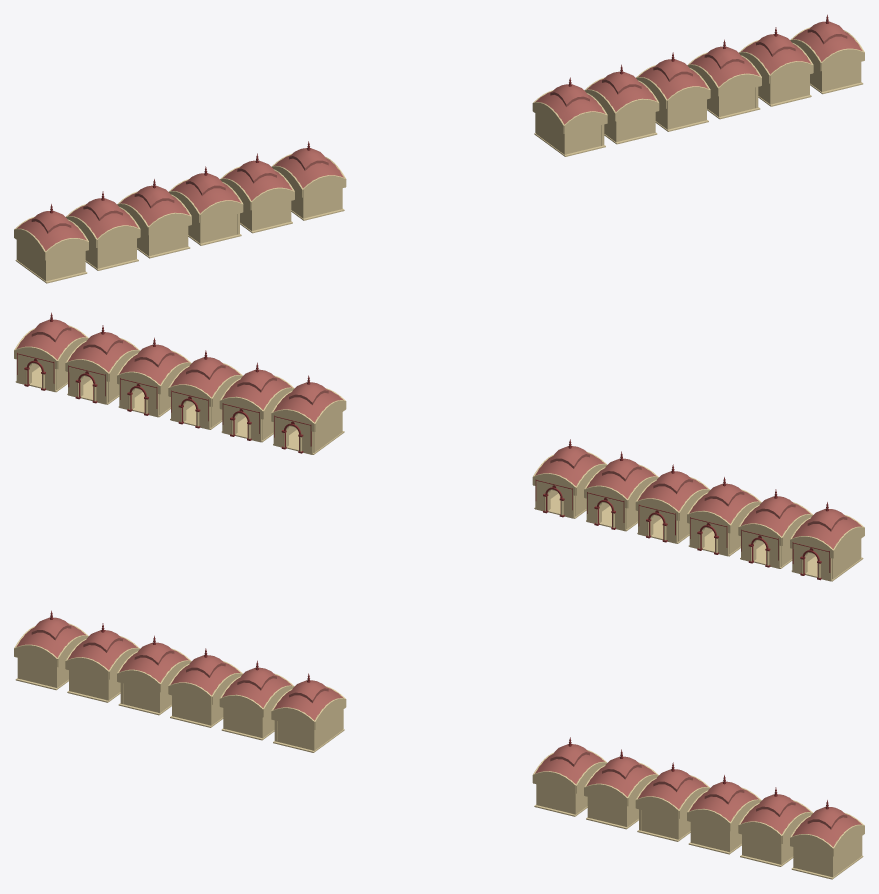
File: KOL_T1_DAKSHINESHWAR__10_Shiva_Temples.fbx
3 renders of one model, top to bottom at view 1: azimuth 30°, elevation 25°; view 2: azimuth 150°, elevation 25°; view 3: azimuth 330°, elevation 25°, orthographic.
Parts seen in each view (by area): view 1: Shiva_temple_shared_master__KOL_T1_TempleCream.007, Shiva_temple_shared_master__KOL_T1_TempleCream.006, Shiva_temple_shared_master__KOL_T1_TempleCream.008, Shiva_temple_shared_master__KOL_T1_TempleCream.002, Shiva_temple_shared_master__KOL_T1_TempleCream.024, Shiva_temple_shared_master__KOL_T1_TempleCream.010, Shiva_temple_shared_master__KOL_T1_TempleCream.001, Shiva_temple_shared_master__KOL_T1_TempleCream.004, Shiva_temple_shared_master__KOL_T1_TempleCream.009, Shiva_temple_shared_master__KOL_T1_TempleCream.005, Shiva_temple_shared_master__KOL_T1_TempleCream.011, Shiva_temple_shared_master__KOL_T1_TempleCream.003 (+12 smaller); view 2: Shiva_temple_shared_master__KOL_T1_TempleCream.006, Shiva_temple_shared_master__KOL_T1_TempleCream.007, Shiva_temple_shared_master__KOL_T1_TempleCream.008, Shiva_temple_shared_master__KOL_T1_TempleCream.010, Shiva_temple_shared_master__KOL_T1_TempleCream.024, Shiva_temple_shared_master__KOL_T1_TempleCream.004, Shiva_temple_shared_master__KOL_T1_TempleCream.002, Shiva_temple_shared_master__KOL_T1_TempleCream.001, Shiva_temple_shared_master__KOL_T1_TempleCream.009, Shiva_temple_shared_master__KOL_T1_TempleCream.011, Shiva_temple_shared_master__KOL_T1_TempleCream.005, Shiva_temple_shared_master__KOL_T1_TempleCream.003 (+12 smaller); view 3: Shiva_temple_shared_master__KOL_T1_TempleCream.001, Shiva_temple_shared_master__KOL_T1_TempleCream.024, Shiva_temple_shared_master__KOL_T1_TempleCream.002, Shiva_temple_shared_master__KOL_T1_TempleCream.006, Shiva_temple_shared_master__KOL_T1_TempleCream.008, Shiva_temple_shared_master__KOL_T1_TempleCream.004, Shiva_temple_shared_master__KOL_T1_TempleCream.007, Shiva_temple_shared_master__KOL_T1_TempleCream.010, Shiva_temple_shared_master__KOL_T1_TempleCream.003, Shiva_temple_shared_master__KOL_T1_TempleCream.005, Shiva_temple_shared_master__KOL_T1_TempleCream.011, Shiva_temple_shared_master__KOL_T1_TempleCream.009 (+12 smaller).
Boxes of the visible parts, x1,y1,x2,y2 form: Shiva_temple_shared_master__KOL_T1_TempleCream.007: (532, 90, 607, 156); Shiva_temple_shared_master__KOL_T1_TempleCream.006: (14, 216, 88, 283); Shiva_temple_shared_master__KOL_T1_TempleCream.008: (584, 77, 659, 144); Shiva_temple_shared_master__KOL_T1_TempleCream.002: (220, 166, 294, 233); Shiva_temple_shared_master__KOL_T1_TempleCream.024: (790, 27, 864, 94); Shiva_temple_shared_master__KOL_T1_TempleCream.010: (687, 52, 761, 119); Shiva_temple_shared_master__KOL_T1_TempleCream.001: (271, 154, 346, 220); Shiva_temple_shared_master__KOL_T1_TempleCream.004: (117, 191, 191, 258); Shiva_temple_shared_master__KOL_T1_TempleCream.009: (636, 65, 710, 131); Shiva_temple_shared_master__KOL_T1_TempleCream.005: (66, 204, 140, 270); Shiva_temple_shared_master__KOL_T1_TempleCream.011: (738, 39, 813, 106); Shiva_temple_shared_master__KOL_T1_TempleCream.003: (168, 179, 243, 245); Shiva_temple_shared_master__KOL_T1_TempleCream.006: (790, 514, 864, 581); Shiva_temple_shared_master__KOL_T1_TempleCream.007: (271, 388, 346, 454); Shiva_temple_shared_master__KOL_T1_TempleCream.008: (219, 375, 294, 442); Shiva_temple_shared_master__KOL_T1_TempleCream.010: (117, 350, 191, 417); Shiva_temple_shared_master__KOL_T1_TempleCream.024: (14, 325, 88, 392); Shiva_temple_shared_master__KOL_T1_TempleCream.004: (687, 489, 761, 556); Shiva_temple_shared_master__KOL_T1_TempleCream.002: (584, 464, 658, 531); Shiva_temple_shared_master__KOL_T1_TempleCream.001: (532, 452, 607, 518); Shiva_temple_shared_master__KOL_T1_TempleCream.009: (168, 363, 242, 429); Shiva_temple_shared_master__KOL_T1_TempleCream.011: (65, 337, 140, 404); Shiva_temple_shared_master__KOL_T1_TempleCream.005: (738, 502, 812, 568); Shiva_temple_shared_master__KOL_T1_TempleCream.003: (635, 477, 710, 543); Shiva_temple_shared_master__KOL_T1_TempleCream.001: (271, 686, 346, 752); Shiva_temple_shared_master__KOL_T1_TempleCream.024: (790, 812, 864, 879); Shiva_temple_shared_master__KOL_T1_TempleCream.002: (219, 673, 294, 740); Shiva_temple_shared_master__KOL_T1_TempleCream.006: (14, 623, 88, 690); Shiva_temple_shared_master__KOL_T1_TempleCream.008: (584, 762, 658, 829); Shiva_temple_shared_master__KOL_T1_TempleCream.004: (117, 648, 191, 715); Shiva_temple_shared_master__KOL_T1_TempleCream.007: (532, 750, 607, 816); Shiva_temple_shared_master__KOL_T1_TempleCream.010: (687, 787, 761, 854); Shiva_temple_shared_master__KOL_T1_TempleCream.003: (168, 661, 242, 727); Shiva_temple_shared_master__KOL_T1_TempleCream.005: (65, 635, 140, 702); Shiva_temple_shared_master__KOL_T1_TempleCream.011: (738, 800, 812, 866); Shiva_temple_shared_master__KOL_T1_TempleCream.009: (635, 775, 710, 841).
Size of the model in its own units: 383 by 28.4 by 26.62.
